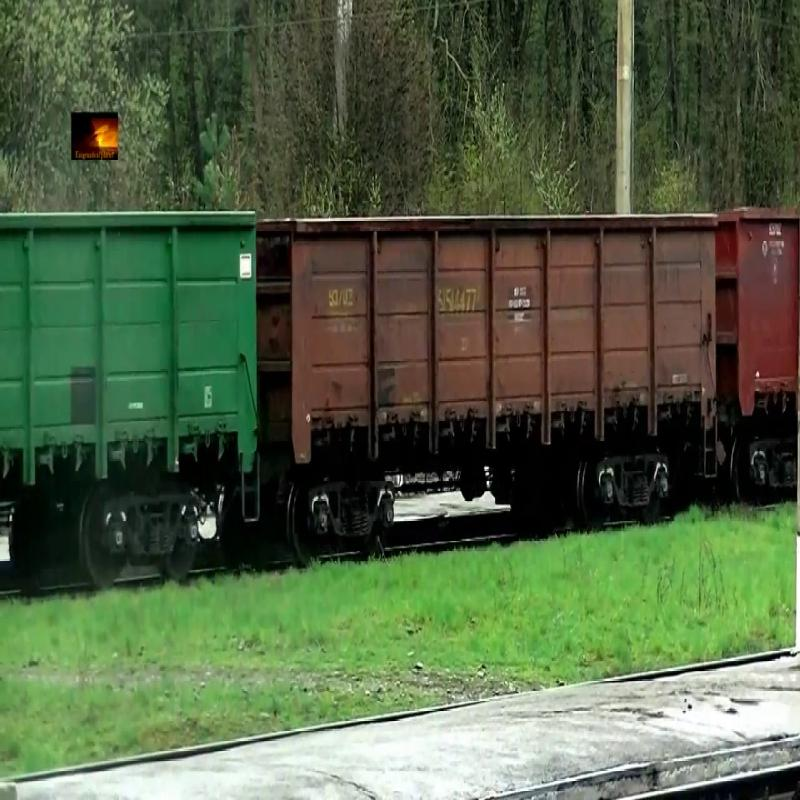train: (260, 211, 720, 460), (1, 209, 259, 494), (720, 209, 798, 417)
